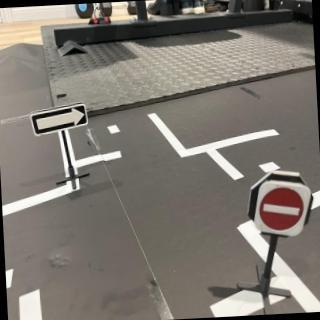sign_noentry: (251, 177, 315, 242)
sign_oneway_right: (29, 101, 91, 139)
